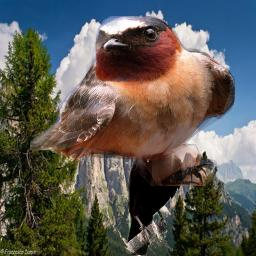Crow: (126, 135, 182, 255)
Swallow: (30, 16, 235, 186)
